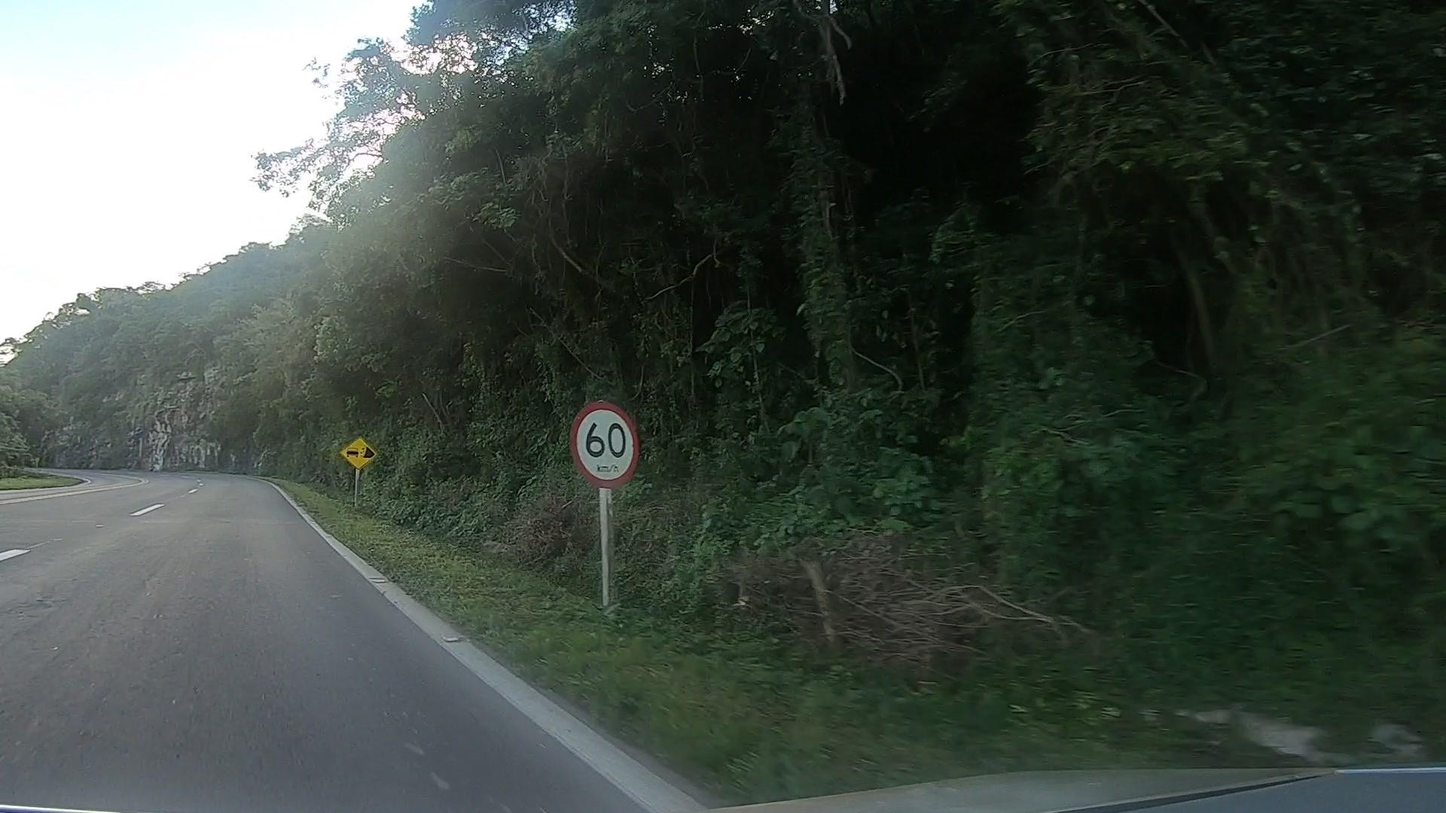R-19: (563, 391, 643, 489)
